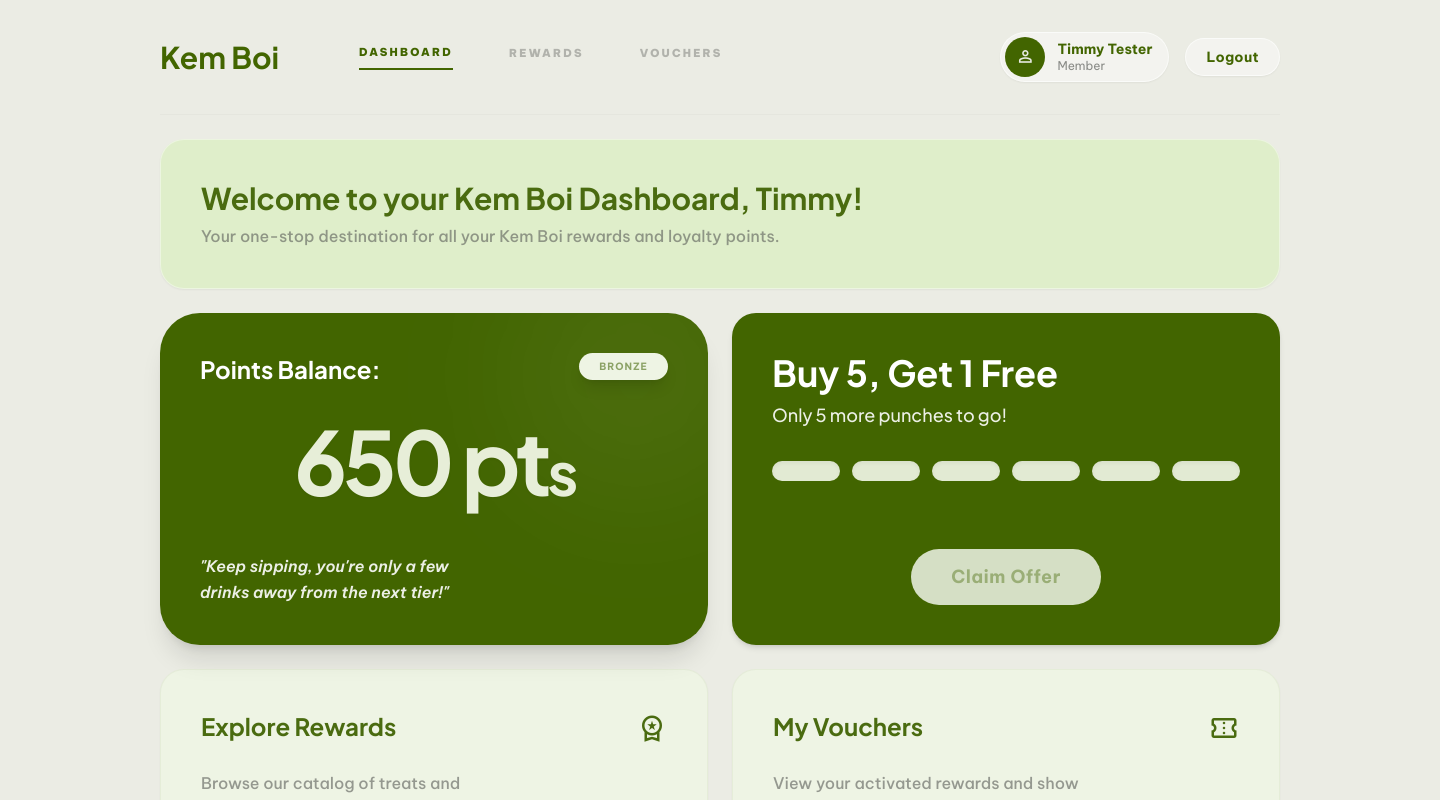
Test: FamilyBonusDashboard Page › switches to rewards tab
Click the button "Rewards".
click(546, 57)  # box x1=509 y1=45 x2=584 y2=69
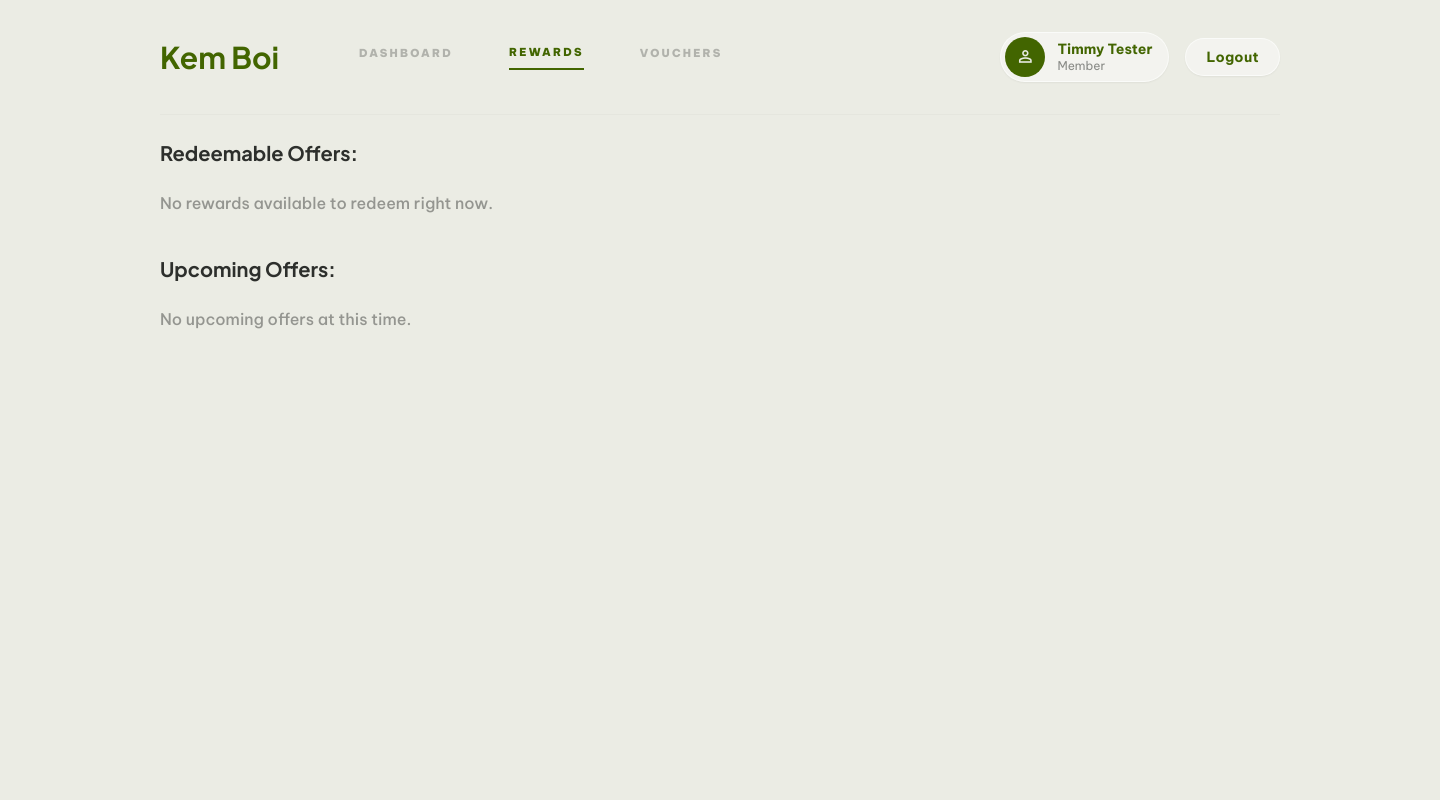
Check: the heading "Redeemable Offers:" is shown, box x1=160 y1=140 x2=358 y2=165
